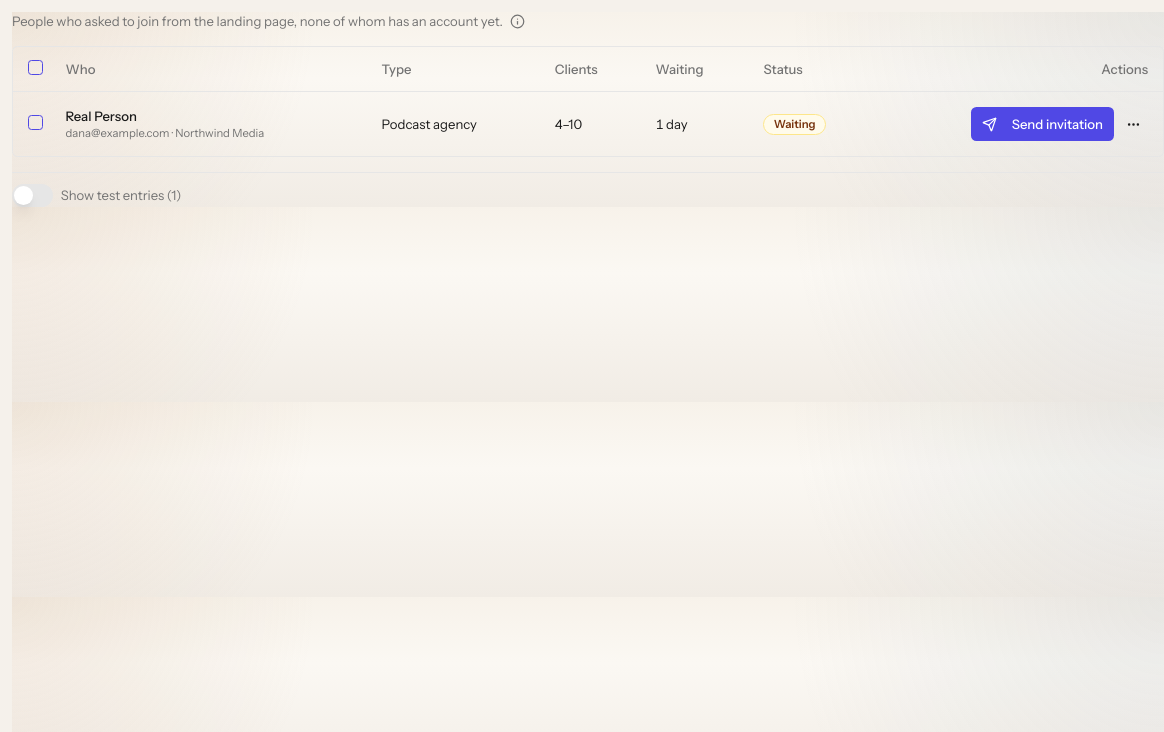
JoinRequestsCard › hides the deploy smoke check rows behind a toggle
Expected: the button "Real Person" is shown, [66,107,137,126]
Expected: the text "Rate limit check 4" is not shown
Click the switch named "Show test entries (1)" at (33, 196), box [12,184,53,207]
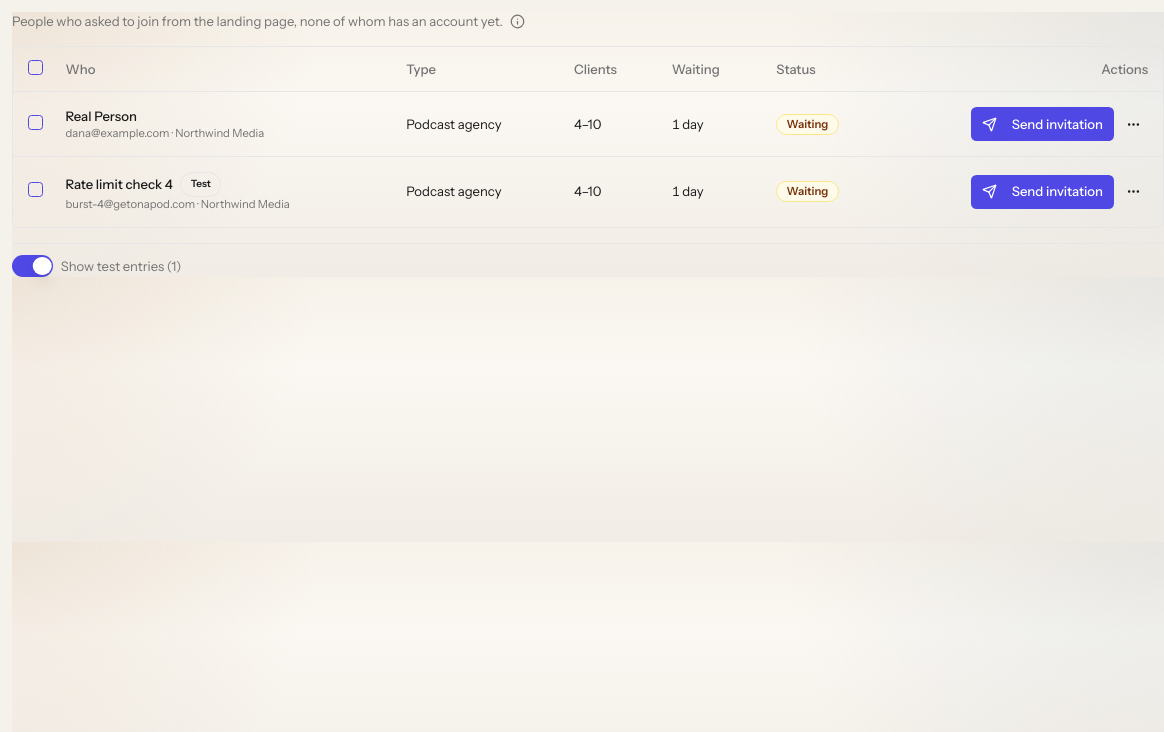
Now the button "Rate limit check 4" is shown, box [66,175,173,194]
